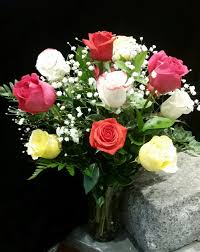lale: (81, 111, 133, 167), (140, 48, 189, 96), (13, 68, 56, 118), (130, 131, 180, 173), (87, 71, 136, 111), (80, 26, 121, 71), (19, 125, 65, 163), (32, 48, 74, 82)
